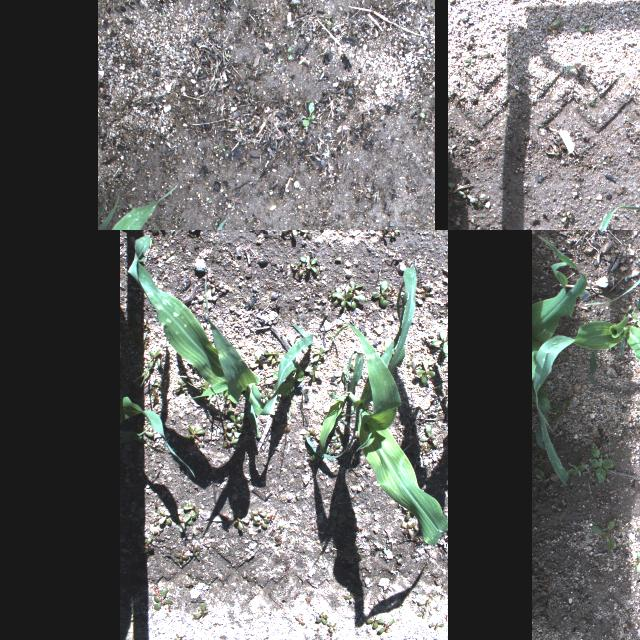crop: (305, 263, 448, 545), (127, 235, 313, 438), (532, 235, 588, 491), (587, 242, 640, 471), (573, 316, 640, 455), (120, 367, 194, 477), (98, 184, 178, 230), (98, 194, 118, 230), (98, 198, 105, 218)
weed: (585, 436, 615, 484), (272, 354, 304, 394), (591, 519, 619, 551), (425, 380, 448, 413), (372, 277, 392, 307), (415, 358, 437, 384), (292, 256, 320, 276), (550, 399, 572, 423), (153, 584, 173, 610), (183, 424, 204, 446), (335, 290, 357, 310), (226, 410, 246, 432), (328, 324, 350, 344), (420, 424, 438, 448), (431, 329, 448, 354), (303, 100, 317, 126), (250, 350, 268, 370), (348, 279, 366, 297), (366, 610, 382, 630), (376, 618, 396, 634), (146, 349, 162, 369), (177, 512, 191, 534), (565, 462, 587, 476), (448, 182, 460, 206), (232, 514, 250, 530), (304, 364, 324, 378), (310, 446, 330, 460), (312, 346, 328, 362), (174, 379, 190, 395), (194, 602, 208, 620), (548, 19, 562, 35), (470, 193, 486, 207), (350, 362, 366, 376), (140, 425, 154, 441), (251, 508, 267, 522), (314, 611, 330, 625), (331, 286, 342, 306), (222, 437, 240, 449), (141, 536, 153, 554), (138, 332, 150, 350), (263, 346, 279, 359), (402, 506, 416, 520), (158, 510, 172, 524), (174, 548, 188, 562), (186, 546, 200, 560), (151, 377, 165, 391), (424, 353, 440, 365), (311, 358, 319, 382), (332, 427, 344, 443), (182, 504, 198, 516), (187, 501, 195, 525), (418, 598, 434, 610), (632, 551, 640, 574), (401, 523, 414, 537), (439, 341, 448, 360), (260, 390, 274, 402), (226, 426, 240, 438), (209, 281, 221, 295), (252, 520, 268, 530), (330, 441, 342, 454), (560, 210, 572, 222), (334, 372, 346, 384), (252, 516, 270, 524), (344, 592, 356, 604), (458, 189, 472, 199), (302, 430, 316, 440), (224, 394, 238, 404), (300, 388, 310, 402), (621, 305, 631, 319), (288, 388, 292, 422), (352, 546, 363, 558), (386, 230, 402, 238), (349, 294, 365, 302), (270, 356, 286, 364), (418, 444, 430, 454), (312, 430, 322, 442), (417, 608, 427, 620), (430, 622, 444, 630), (281, 230, 299, 236), (173, 631, 185, 640), (232, 121, 245, 129), (299, 230, 312, 238), (185, 580, 198, 588), (317, 359, 327, 369), (409, 521, 419, 531), (327, 622, 337, 632), (296, 616, 306, 626), (607, 633, 621, 640), (578, 26, 594, 32), (141, 324, 149, 336), (151, 391, 159, 403), (534, 244, 542, 256), (408, 353, 414, 367), (464, 60, 474, 68), (219, 427, 227, 437), (274, 536, 282, 546), (196, 522, 204, 532), (164, 603, 172, 613), (151, 387, 161, 395), (616, 526, 624, 536), (142, 318, 150, 327), (448, 144, 455, 154), (278, 523, 286, 531), (606, 437, 612, 447), (634, 313, 640, 323), (418, 444, 432, 448), (288, 48, 292, 61), (380, 230, 393, 234), (327, 19, 335, 25), (294, 492, 300, 500), (205, 196, 211, 202), (315, 66, 321, 72), (420, 112, 426, 118), (222, 148, 228, 152), (485, 53, 489, 59), (223, 55, 230, 57)
